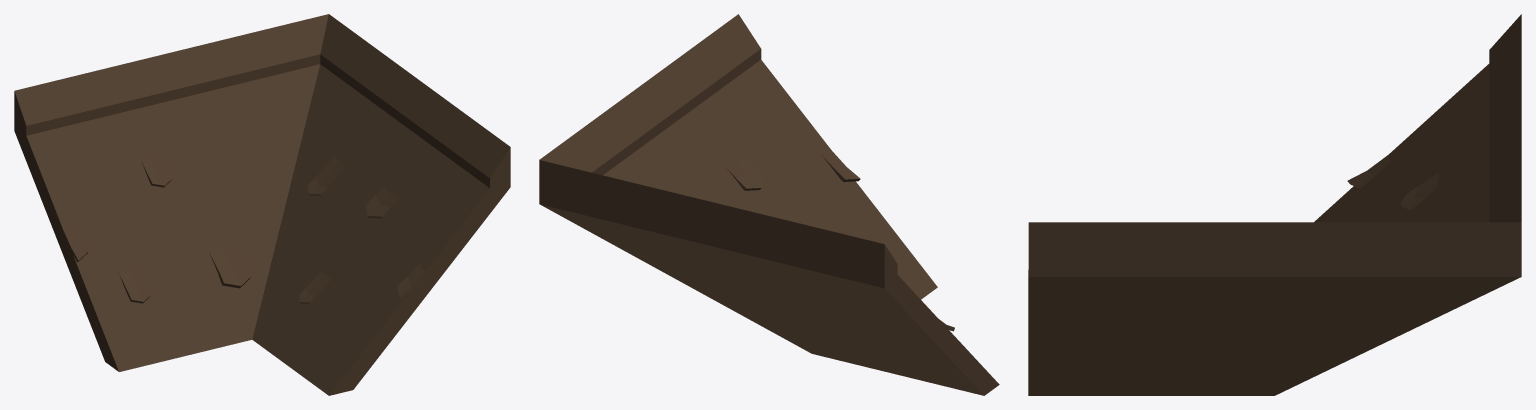
File: roof-wood-top-corner-in.fbx
The picture shows the model from 3 angles, left to right: view 1: azimuth 30°, elevation 25°; view 2: azimuth 150°, elevation 25°; view 3: azimuth 270°, elevation 25°; orthographic projection. The views are drawn at different scales.
Parts seen in each view (by area): view 1: roof-wood-top-corner-in; view 2: roof-wood-top-corner-in; view 3: roof-wood-top-corner-in.
Boxes of the visible parts, <box> form: roof-wood-top-corner-in: <box>14,14,510,395</box>; roof-wood-top-corner-in: <box>539,14,999,395</box>; roof-wood-top-corner-in: <box>1028,14,1521,395</box>.
Bounding box in the file's own units: 6 × 3.73 × 6.
